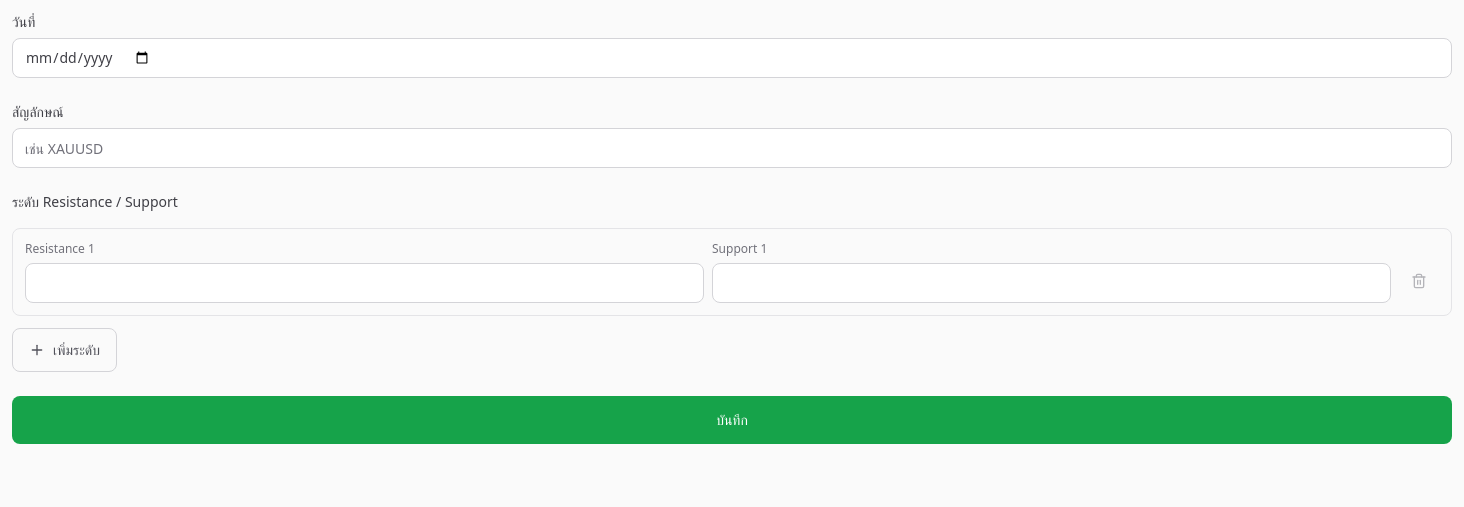
it: PriceAlertForm › rejects the reserved symbol __new__ regardless of case
Type "2026-01-01" into the date field labelled "วันที่" at [732, 58], box [12,38,1452,78]
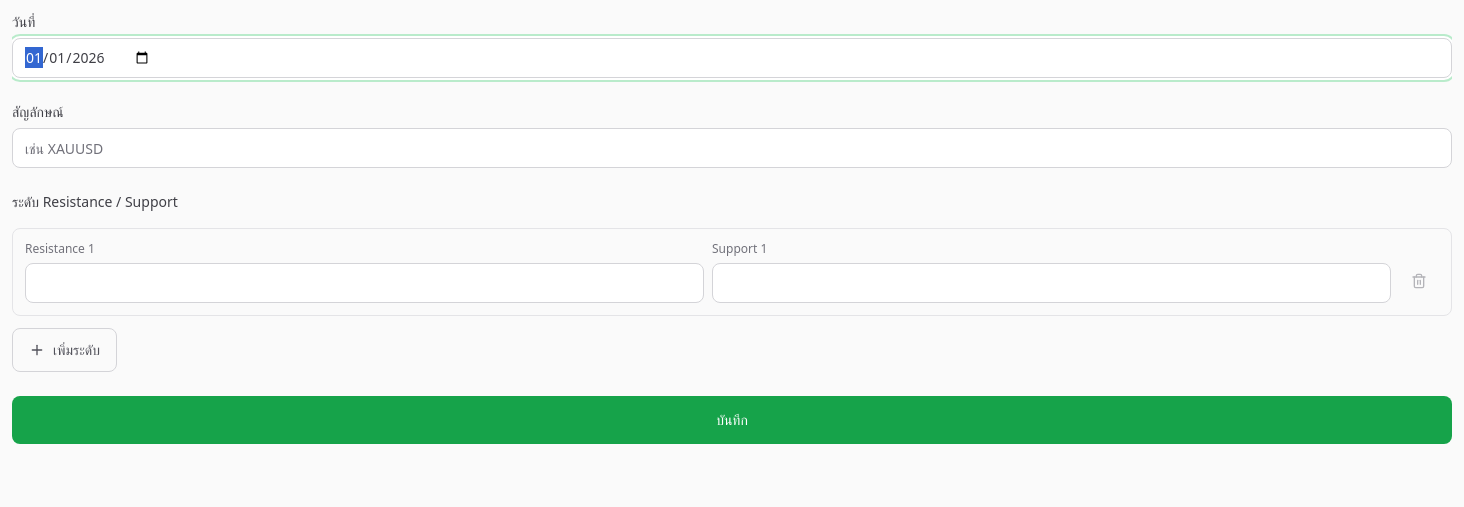
Type "__new__" into the field labelled "สัญลักษณ์" at [732, 148], box [12,128,1452,168]
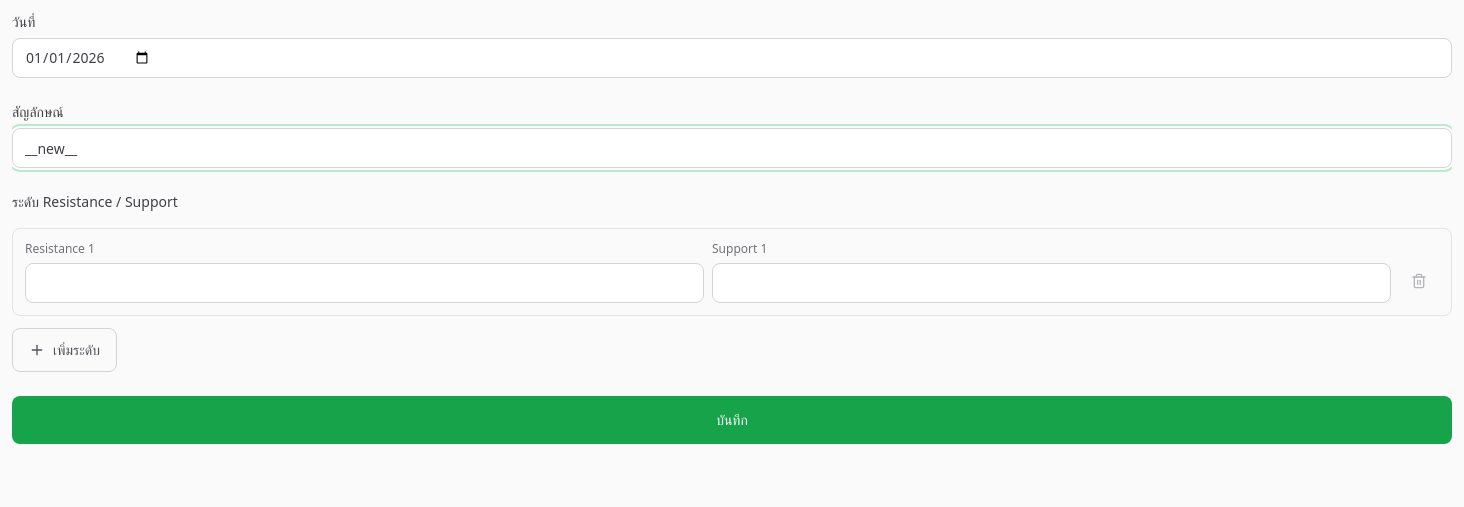
Type "100" into the number field labelled "Resistance 1" at [364, 283], box [25,263,704,303]
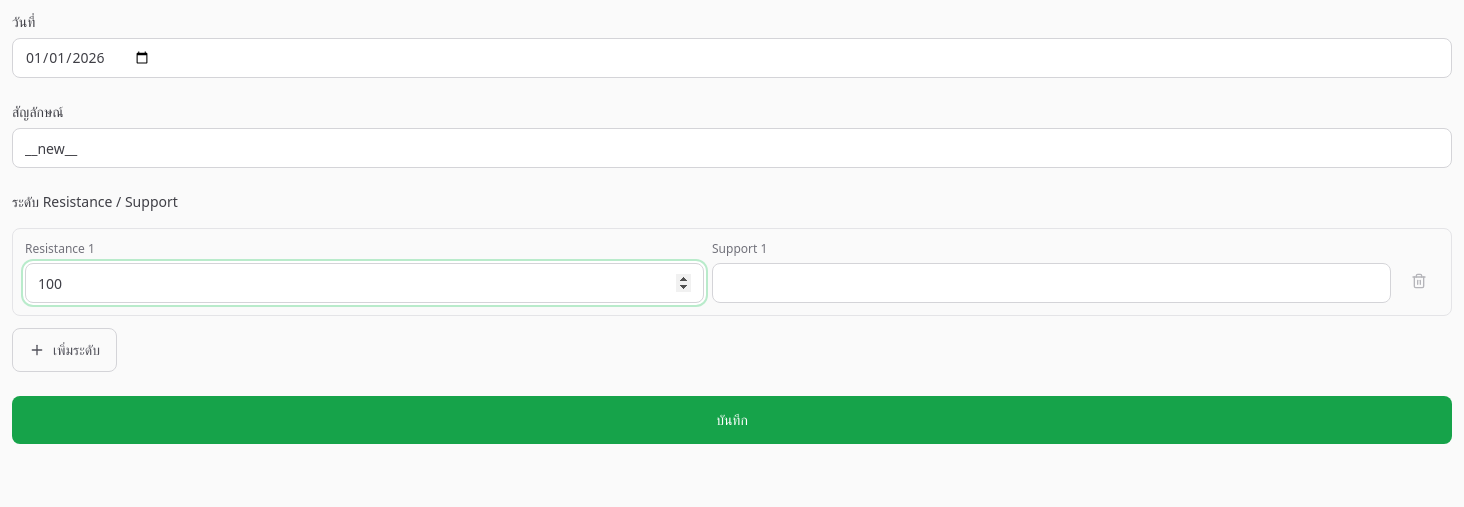
Click the button "บันทึก" at [732, 420], box [12,396,1452,444]
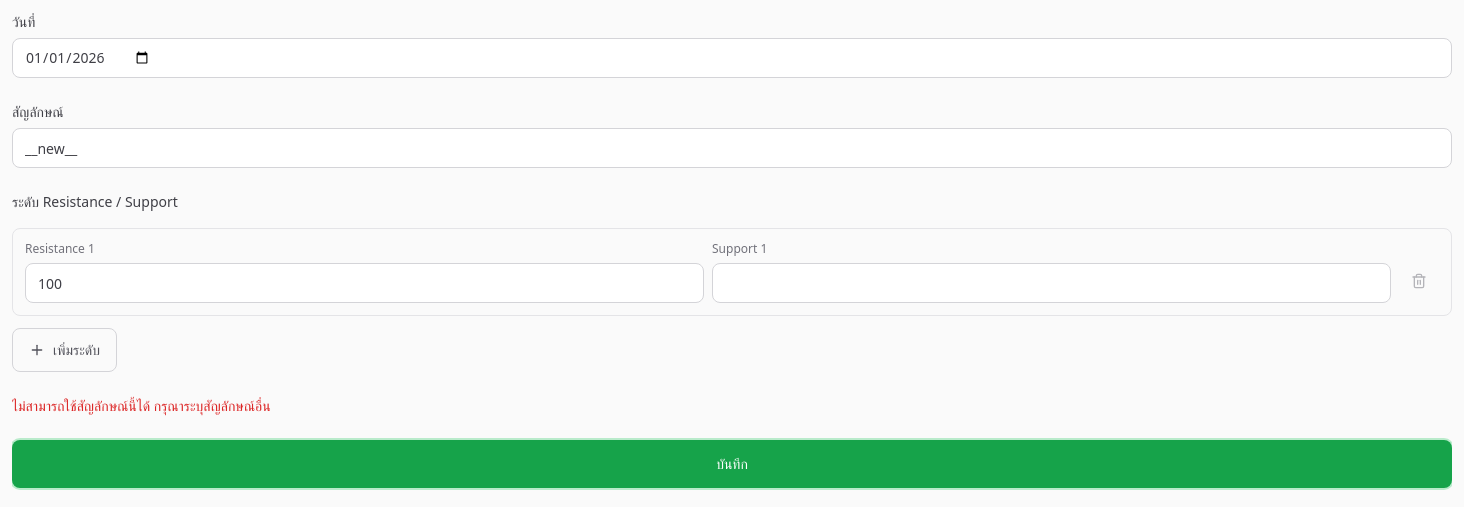
expect the message shows "ไม่สามารถใช้สัญลักษณ์นี้ได้": met, box [12,396,271,415]
